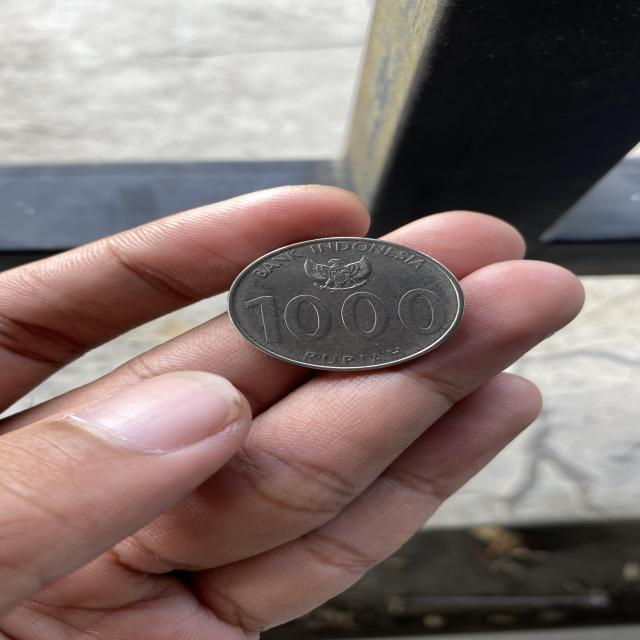1000-angklung: (229, 238, 464, 370)
